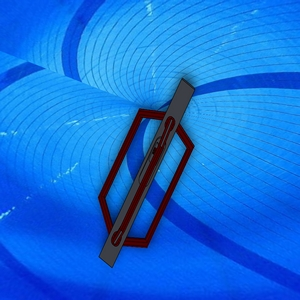submarine: (94, 59, 202, 277)
